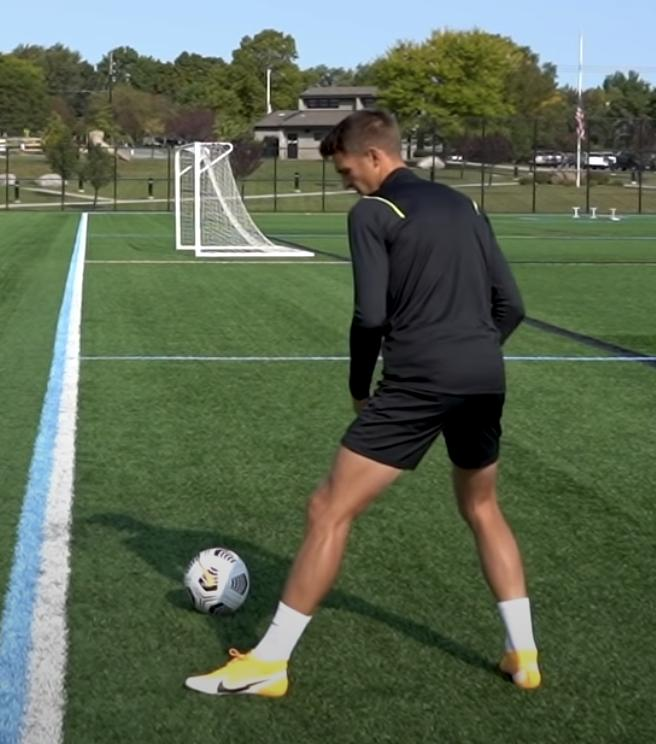ball: (185, 549, 250, 619)
foot: (184, 646, 290, 702), (501, 640, 540, 693)
person: (184, 110, 541, 696)
